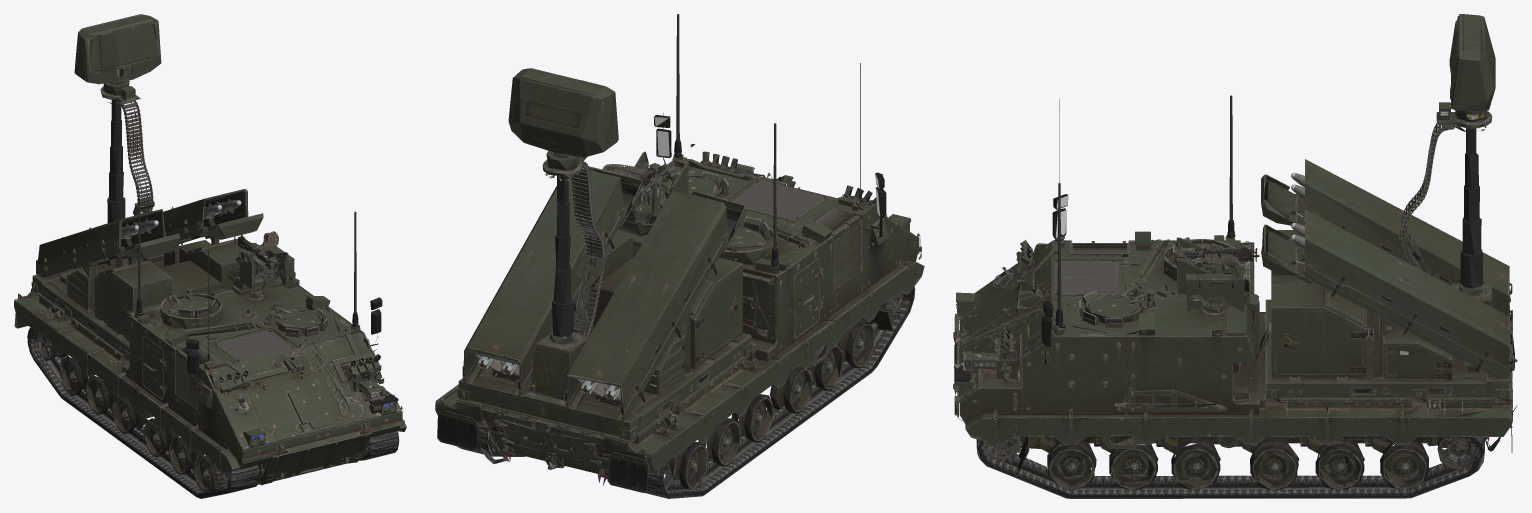
Rendered from nomads.glb.
3 views of the same model, side by side, from view 1: azimuth 30°, elevation 25°; view 2: azimuth 150°, elevation 25°; view 3: azimuth 270°, elevation 25° (orthographic). The views are drawn at different scales.
Visible parts, largest first — view 1: 7685007a-0096-4552-9b0f-fce2edf53ea7, af41ed37-6eaf-4007-89ab-d78bba3839cf, db14ad05-a8c7-4f90-8701-33072aaa9281, a180c5db-5f34-407d-a68b-490435881f64, d66753e4-5a67-4bf6-b8aa-c806442f186a, e914d4bd-1827-4783-9965-141737099137, 83fc7c2c-e0ae-4cae-903f-18f69383c28d, 575bc722-05a7-4b47-855a-61c1b11e921c, 639e0d6d-d861-41d8-b0f7-502476963190, 6cf181f4-0b4f-496b-82ee-f97f4b828dee; view 2: af41ed37-6eaf-4007-89ab-d78bba3839cf, 7685007a-0096-4552-9b0f-fce2edf53ea7, db14ad05-a8c7-4f90-8701-33072aaa9281, a180c5db-5f34-407d-a68b-490435881f64, e914d4bd-1827-4783-9965-141737099137, d66753e4-5a67-4bf6-b8aa-c806442f186a, 83fc7c2c-e0ae-4cae-903f-18f69383c28d, 575bc722-05a7-4b47-855a-61c1b11e921c, 639e0d6d-d861-41d8-b0f7-502476963190; view 3: 7685007a-0096-4552-9b0f-fce2edf53ea7, af41ed37-6eaf-4007-89ab-d78bba3839cf, 6cf181f4-0b4f-496b-82ee-f97f4b828dee, db14ad05-a8c7-4f90-8701-33072aaa9281, d66753e4-5a67-4bf6-b8aa-c806442f186a, e914d4bd-1827-4783-9965-141737099137, 83fc7c2c-e0ae-4cae-903f-18f69383c28d, 639e0d6d-d861-41d8-b0f7-502476963190, 18827729-513b-41a7-bec2-5a1ff044f4bf.
Boxes of the visible parts, box(x1,y1,x2,y2) form: 7685007a-0096-4552-9b0f-fce2edf53ea7: box(14, 276, 406, 491); af41ed37-6eaf-4007-89ab-d78bba3839cf: box(31, 14, 263, 362); db14ad05-a8c7-4f90-8701-33072aaa9281: box(100, 80, 154, 266); a180c5db-5f34-407d-a68b-490435881f64: box(27, 327, 259, 498); d66753e4-5a67-4bf6-b8aa-c806442f186a: box(228, 242, 295, 291); e914d4bd-1827-4783-9965-141737099137: box(182, 331, 291, 364); 83fc7c2c-e0ae-4cae-903f-18f69383c28d: box(136, 198, 358, 360); 575bc722-05a7-4b47-855a-61c1b11e921c: box(121, 198, 239, 239); 639e0d6d-d861-41d8-b0f7-502476963190: box(239, 231, 279, 281); 6cf181f4-0b4f-496b-82ee-f97f4b828dee: box(359, 430, 399, 460); af41ed37-6eaf-4007-89ab-d78bba3839cf: box(457, 68, 752, 443); 7685007a-0096-4552-9b0f-fce2edf53ea7: box(435, 113, 924, 492); db14ad05-a8c7-4f90-8701-33072aaa9281: box(542, 151, 607, 337); a180c5db-5f34-407d-a68b-490435881f64: box(629, 286, 915, 498); e914d4bd-1827-4783-9965-141737099137: box(734, 181, 855, 232); d66753e4-5a67-4bf6-b8aa-c806442f186a: box(620, 151, 688, 236); 83fc7c2c-e0ae-4cae-903f-18f69383c28d: box(674, 14, 861, 266); 575bc722-05a7-4b47-855a-61c1b11e921c: box(474, 354, 620, 400); 639e0d6d-d861-41d8-b0f7-502476963190: box(602, 163, 679, 207); 7685007a-0096-4552-9b0f-fce2edf53ea7: box(953, 194, 1517, 489); af41ed37-6eaf-4007-89ab-d78bba3839cf: box(1240, 14, 1512, 402); 6cf181f4-0b4f-496b-82ee-f97f4b828dee: box(976, 423, 1484, 498); db14ad05-a8c7-4f90-8701-33072aaa9281: box(1304, 102, 1492, 342); d66753e4-5a67-4bf6-b8aa-c806442f186a: box(1176, 237, 1250, 312); e914d4bd-1827-4783-9965-141737099137: box(1052, 248, 1127, 293); 83fc7c2c-e0ae-4cae-903f-18f69383c28d: box(1055, 95, 1235, 326); 639e0d6d-d861-41d8-b0f7-502476963190: box(1175, 247, 1250, 275); 18827729-513b-41a7-bec2-5a1ff044f4bf: box(1122, 246, 1259, 261).
Bounding box in the file's own units: 3.3 × 5.55 × 6.84.
Materials: 12 (11 with a texture image).
